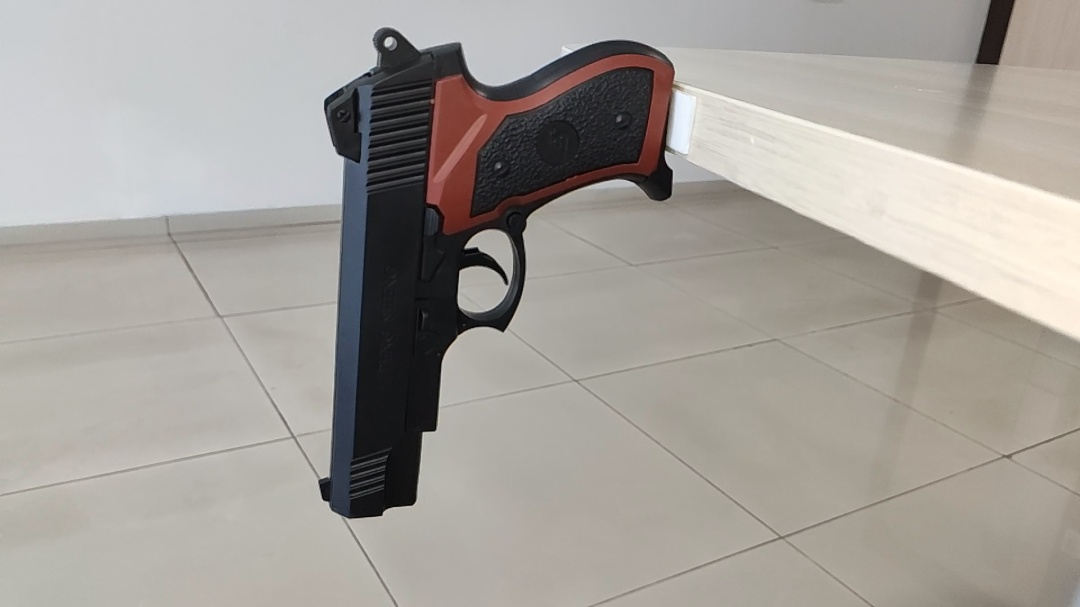gun: (315, 23, 686, 532)
